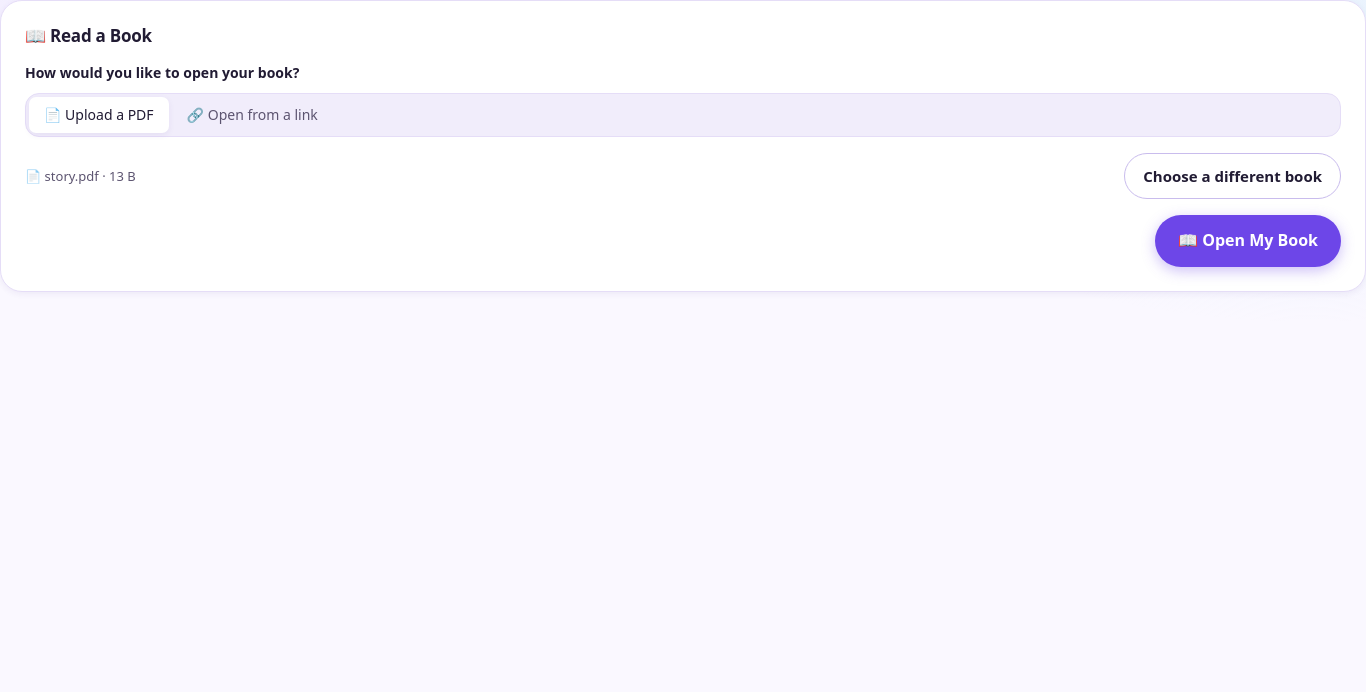
Scenario: BookReaderForm › applies the bedtime preset (slower speed, calm-ish background, lower volume)
Earlier steps of the test are not shown.
Click the button with test id "load-book-submit". click: point(1248, 241)
box: [1155,215,1341,267]
(page scrolled)
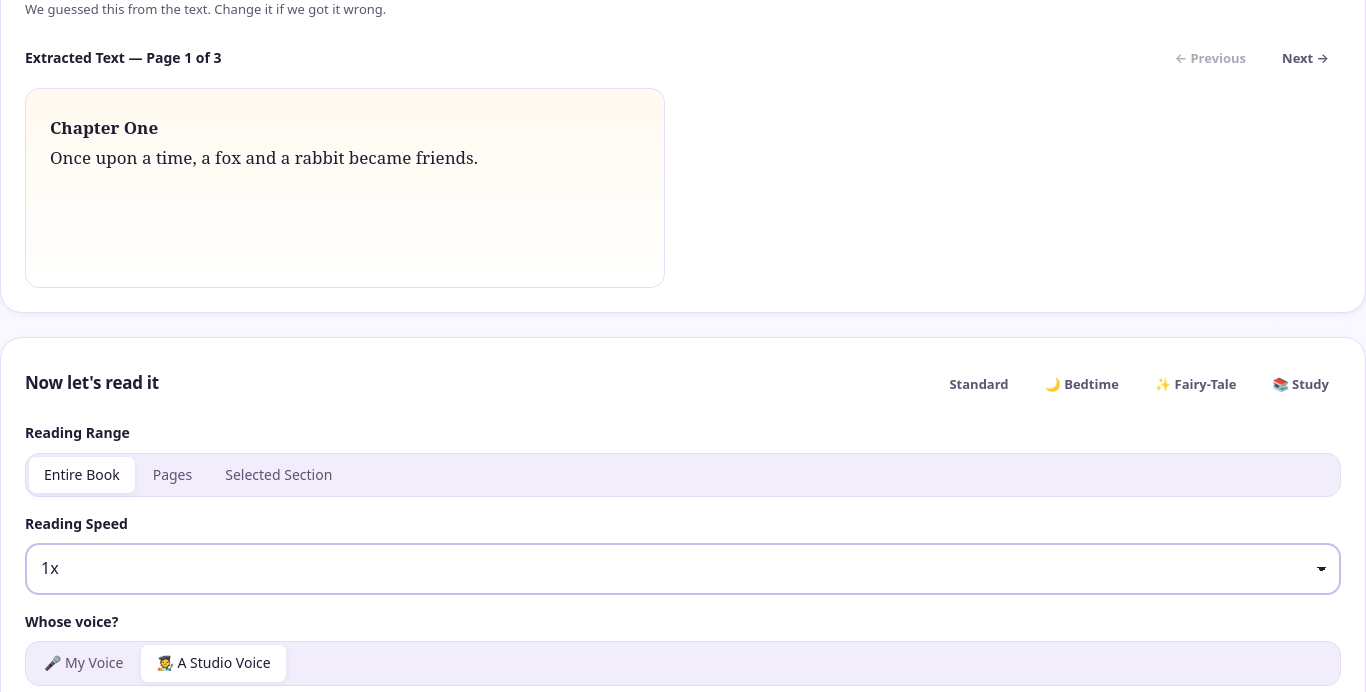
Click the button with test id "preset-bedtime". click: point(1082, 384)
box: [1033,362,1131,406]
(page scrolled)
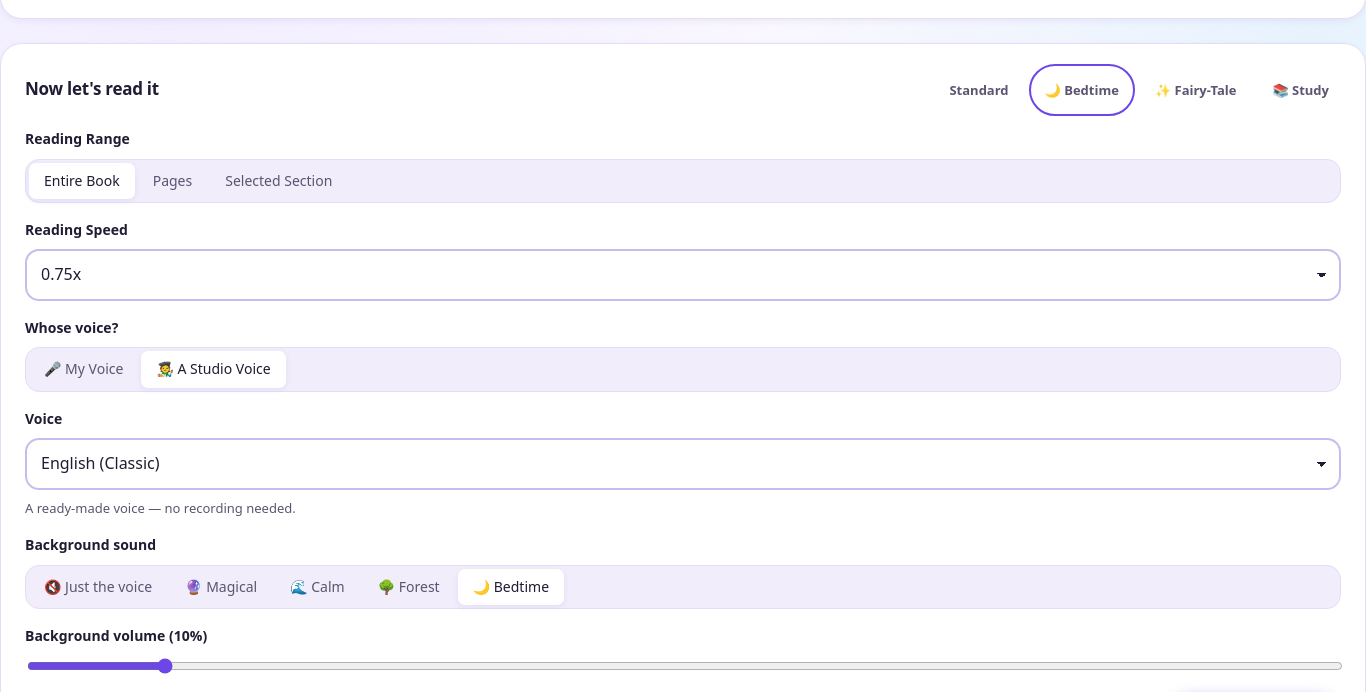
Check: the dropdown with test id "reading-speed-select" shows "0.75x", box [25,249,1341,301]
